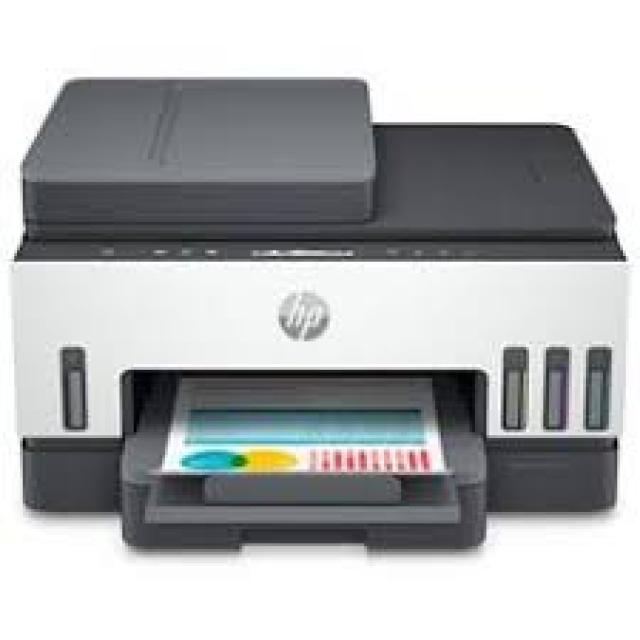printer: (9, 74, 628, 552)
